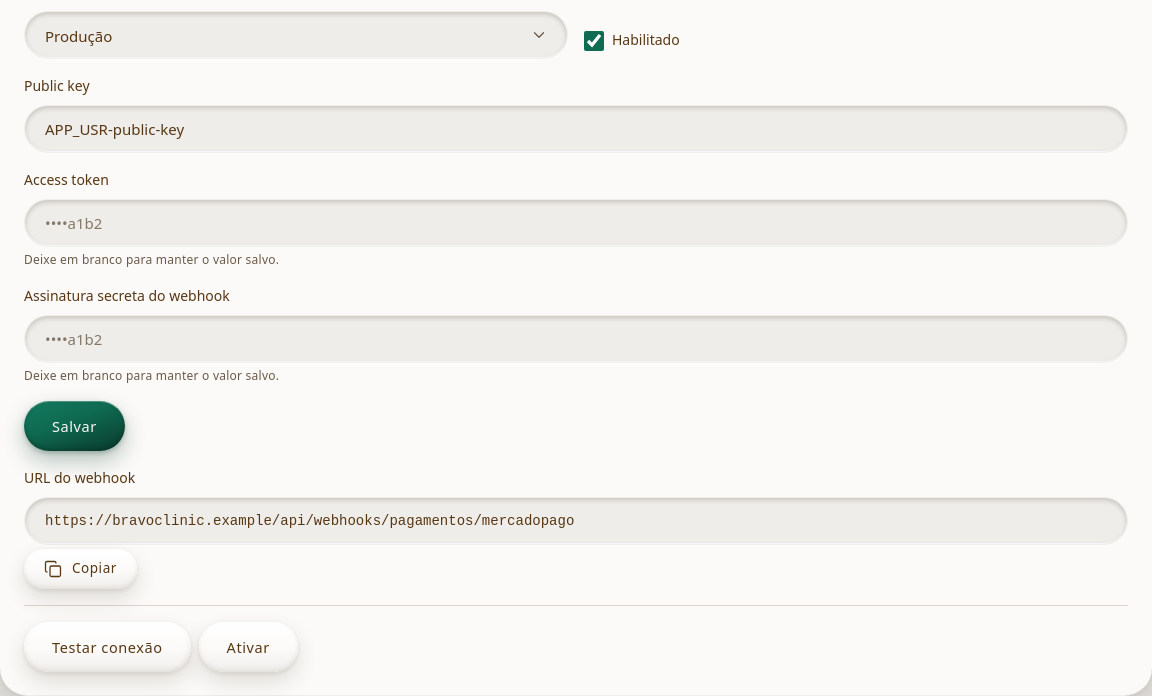
Test case: PaymentsTab connection test (GES-37) › shows the message as a success notice when ok is true
The image size is (1152, 696).
(page scrolled)
Step 1. Click the button "Testar conexão" → {"x": 107, "y": 647}, box [24,622,191,672]
(page scrolled)
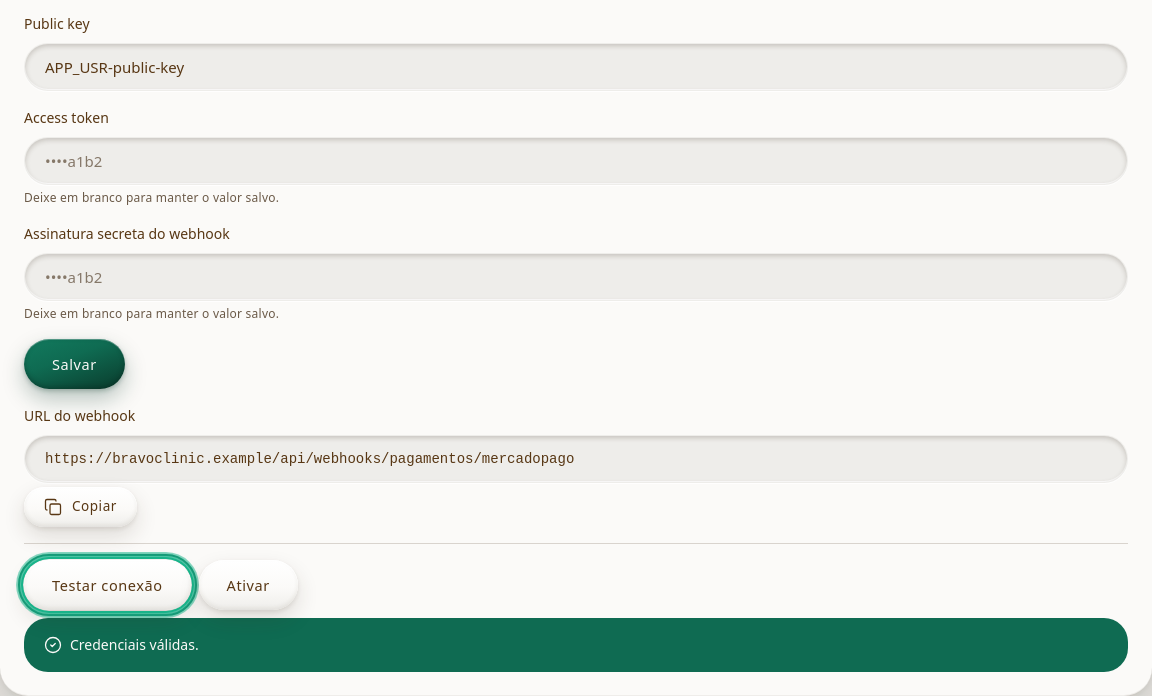
Check: the text "Credenciais válidas." is shown, box [24,618,1128,672]
